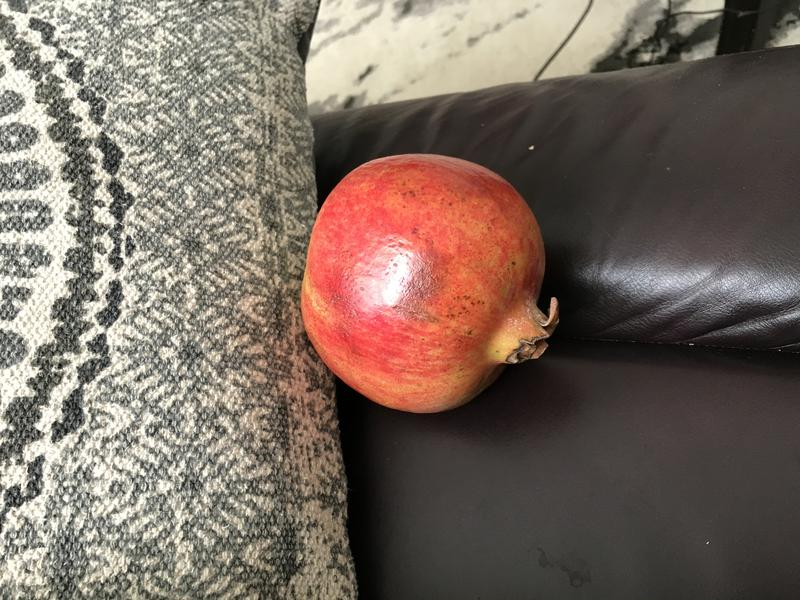pomegranate: (294, 143, 571, 427)
